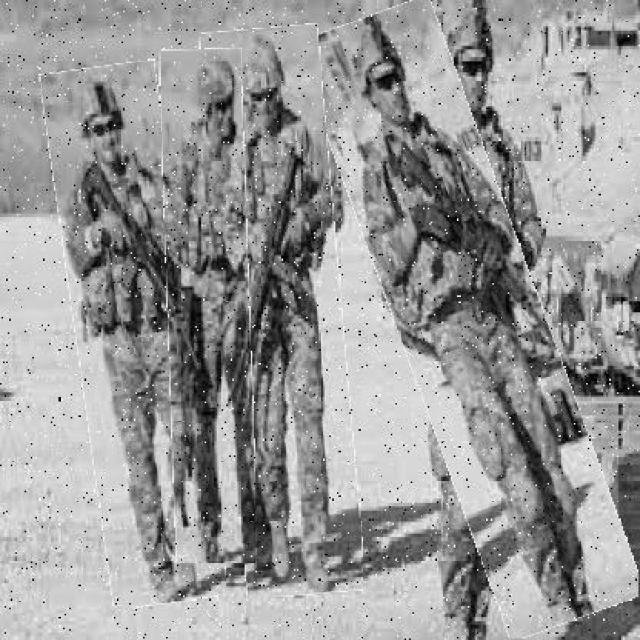Person: (347, 1, 594, 639), (58, 63, 210, 609), (212, 27, 355, 598), (164, 50, 255, 566)
